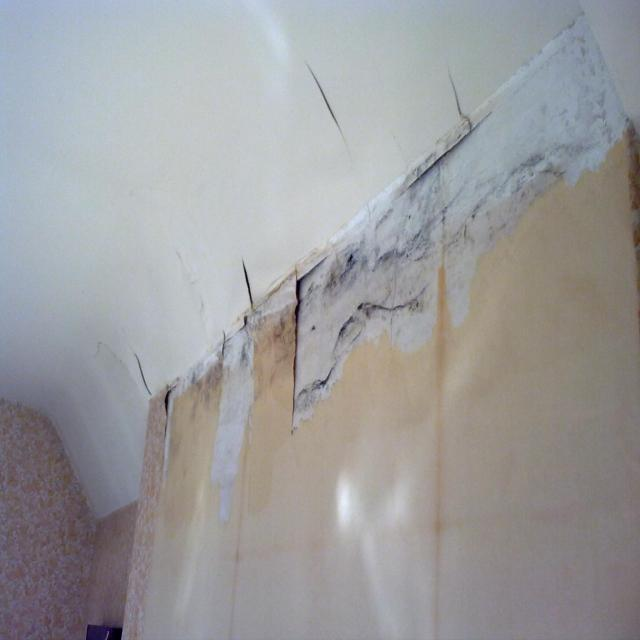Crack: (318, 298, 432, 386), (304, 47, 356, 136), (444, 55, 485, 132), (289, 255, 302, 432), (132, 349, 160, 399), (238, 255, 259, 312), (164, 384, 179, 460), (301, 248, 332, 280)
leak: (141, 104, 640, 640), (147, 364, 216, 640), (343, 201, 476, 286)
